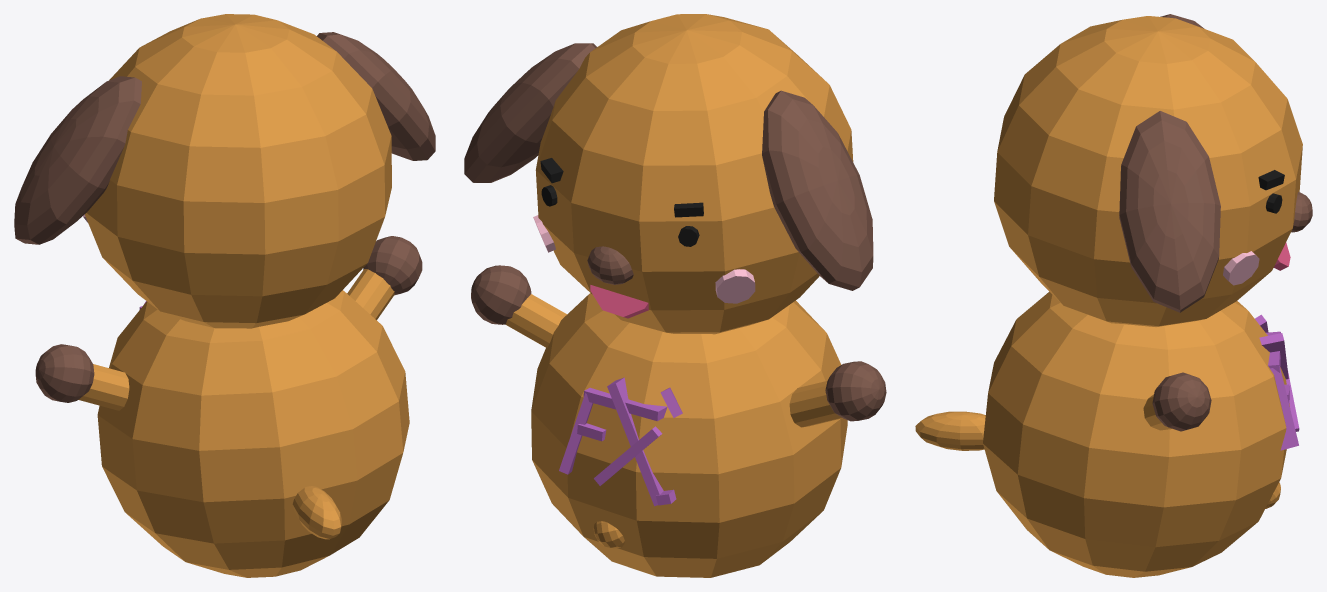
Rendered from doggo-1.fbx.
The picture shows the model from 3 angles, left to right: view 1: azimuth 30°, elevation 25°; view 2: azimuth 150°, elevation 25°; view 3: azimuth 270°, elevation 25°; orthographic projection. The views are drawn at different scales.
Parts seen in each view (by area): view 1: mesh_1475144412, mesh_1403155804, mesh_602132426, mesh_181223645, mesh_110353072, mesh_1735758143, mesh_1201596089, mesh_508999944, mesh_1253694174; view 2: mesh_1475144412, mesh_1403155804, mesh_602132426, mesh_181223645, mesh_110353072, mesh_1735758143, mesh_1253694174, mesh_508999944, group_1126131986, mesh_815975072, group_2128680938, group_818227699 (+4 smaller); view 3: mesh_1403155804, mesh_1475144412, mesh_181223645, mesh_1735758143, mesh_1201596089, group_1516176683, group_1983740178, mesh_815975072, group_1126131986.
Part boxes in pixels (x1,y1,x2,y2): mesh_1475144412: [85, 14, 391, 328]; mesh_1403155804: [97, 290, 409, 577]; mesh_602132426: [14, 76, 141, 244]; mesh_181223645: [317, 32, 435, 160]; mesh_110353072: [35, 344, 94, 402]; mesh_1735758143: [363, 236, 422, 295]; mesh_1201596089: [292, 486, 341, 539]; mesh_508999944: [78, 364, 129, 410]; mesh_1253694174: [347, 269, 394, 319]; mesh_1475144412: [535, 14, 853, 334]; mesh_1403155804: [531, 293, 847, 577]; mesh_602132426: [762, 90, 873, 290]; mesh_181223645: [464, 43, 596, 182]; mesh_110353072: [825, 361, 886, 421]; mesh_1735758143: [471, 265, 531, 324]; mesh_1253694174: [505, 294, 566, 347]; mesh_508999944: [789, 381, 842, 427]; group_1126131986: [607, 377, 663, 506]; mesh_815975072: [587, 246, 633, 284]; group_2128680938: [715, 269, 755, 303]; group_818227699: [590, 285, 648, 318]; mesh_1403155804: [983, 291, 1289, 577]; mesh_1475144412: [994, 16, 1302, 326]; mesh_181223645: [1119, 111, 1220, 312]; mesh_1735758143: [1152, 372, 1211, 431]; mesh_1201596089: [915, 411, 985, 450]; group_1516176683: [1223, 251, 1259, 285]; group_1983740178: [1270, 366, 1298, 450]; mesh_815975072: [1291, 192, 1312, 232]; group_1126131986: [1259, 333, 1288, 379].
Size of the model in its own units: 23.2 by 29.49 by 20.11.
